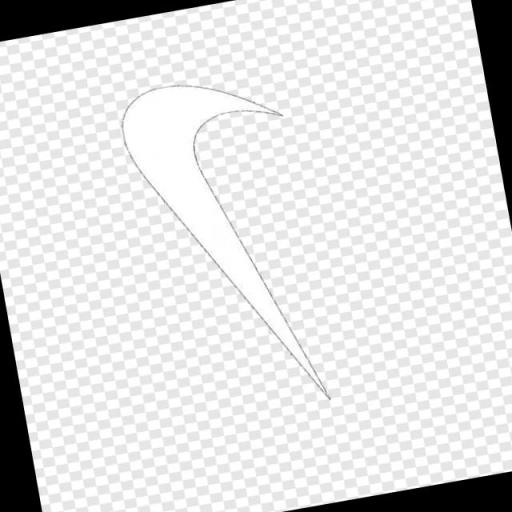Nike: (105, 52, 355, 444)
